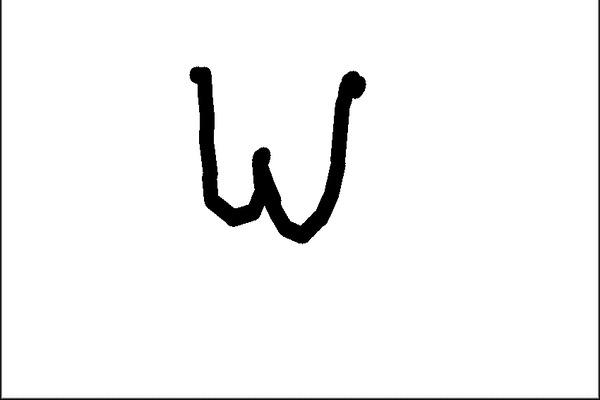w: (158, 52, 400, 255)
